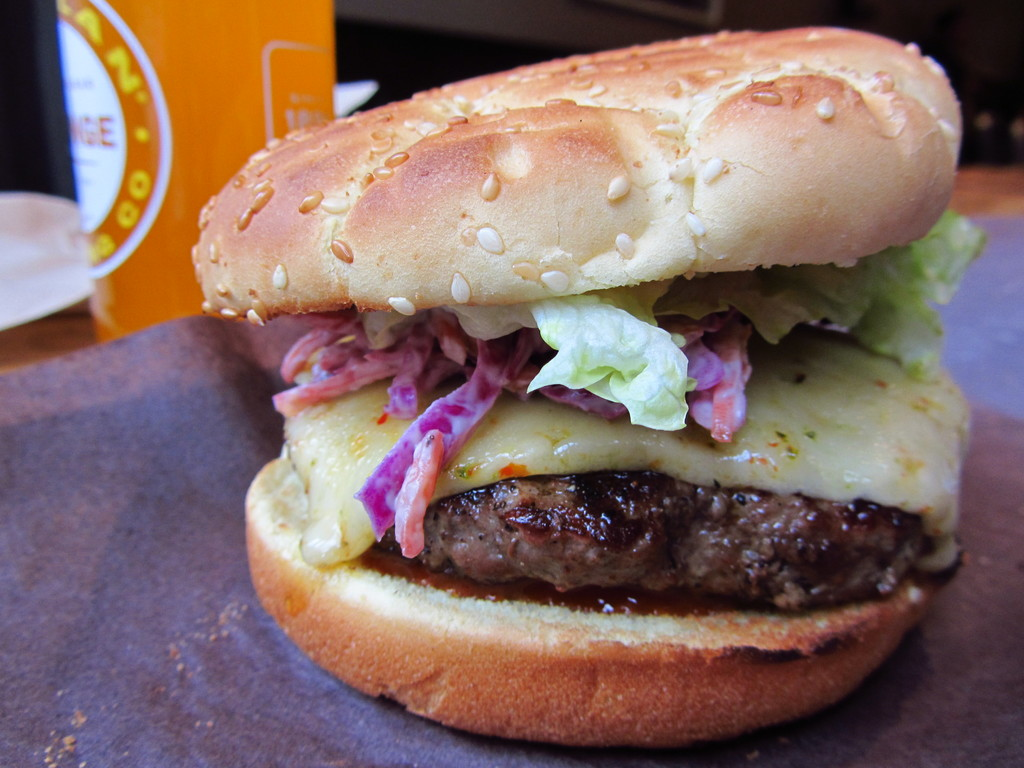Hamburger: (191, 30, 990, 751)
